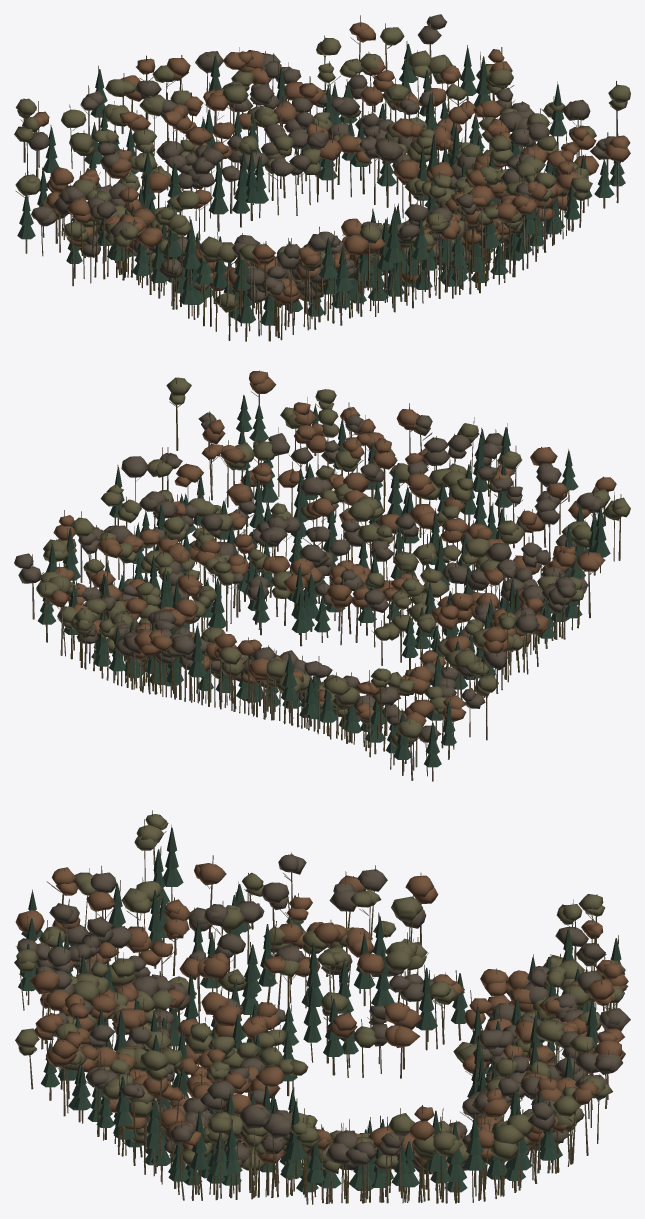
The model's file is hollow_woods.glb.
The picture shows the model from 3 angles, top to bottom: view 1: azimuth 30°, elevation 25°; view 2: azimuth 150°, elevation 25°; view 3: azimuth 270°, elevation 25°; orthographic projection. The views are drawn at different scales.
Visible parts, largest first — view 1: hollow_woods; view 2: hollow_woods; view 3: hollow_woods.
Part boxes in pixels (left/top/right/bottom): hollow_woods: left=14, top=14, right=630, bottom=341; hollow_woods: left=14, top=370, right=630, bottom=781; hollow_woods: left=14, top=810, right=630, bottom=1204.
Size of the model in its own units: 143 by 55.49 by 141.
5 materials, 1 textured.
